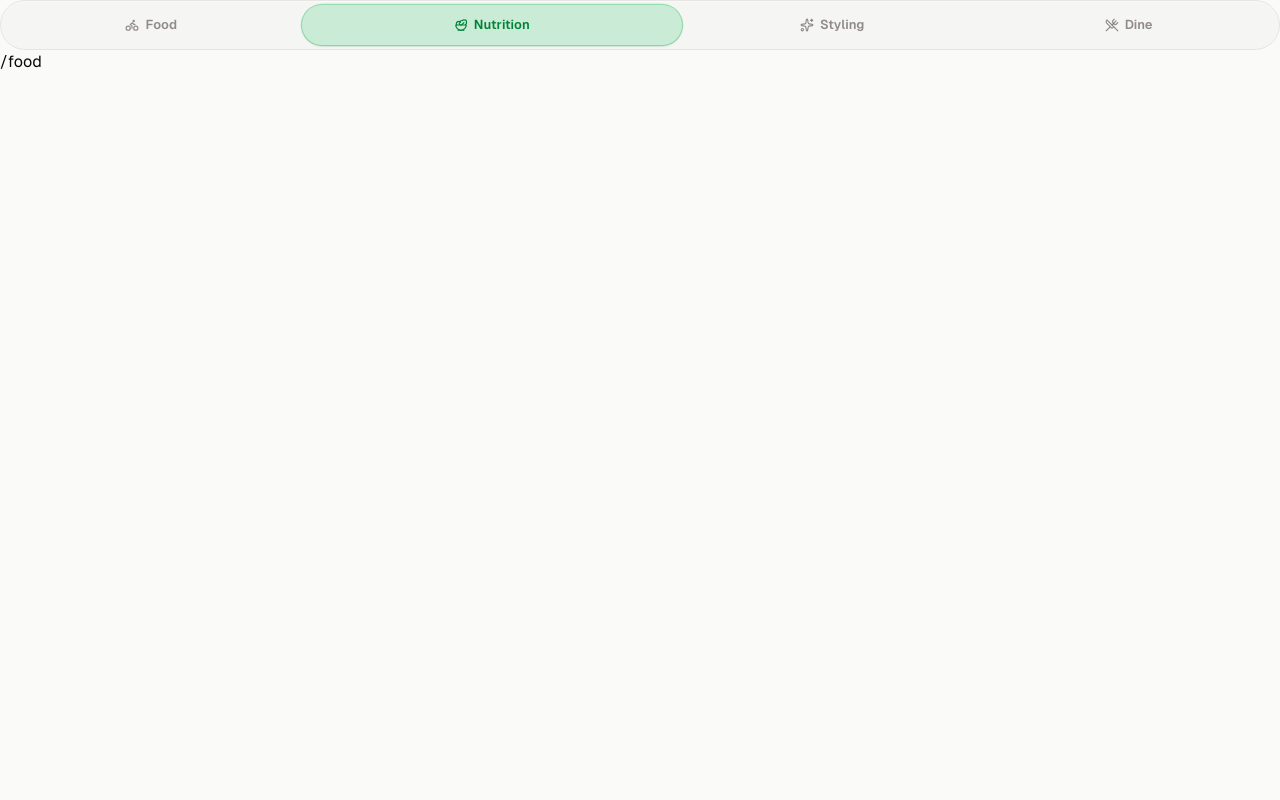
Test case: VerticalNav Nutrition/Style switch guard › clears source chat and switches tabs on confirmation
Click the link "Styling": (832, 25) 800,17 -> 864,32
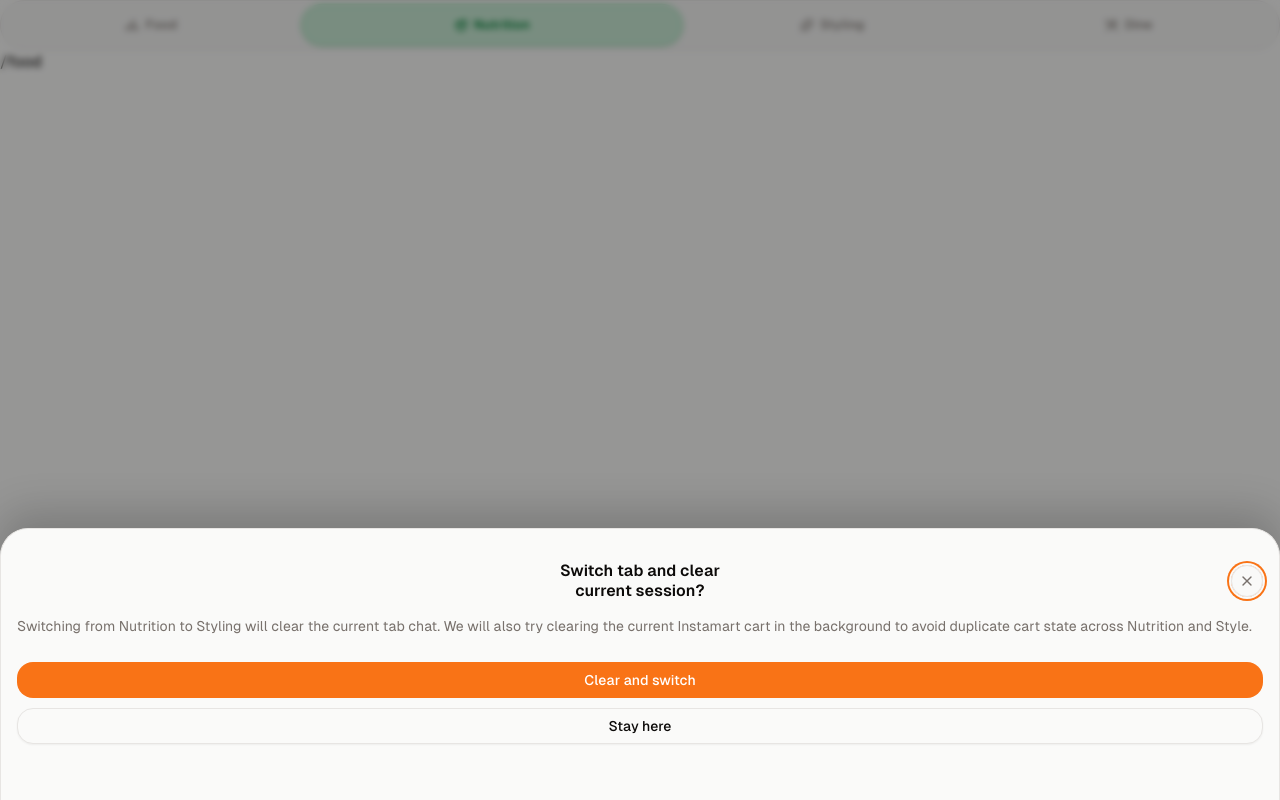
Click the button "Clear and switch": (640, 680) 17,662 -> 1263,698
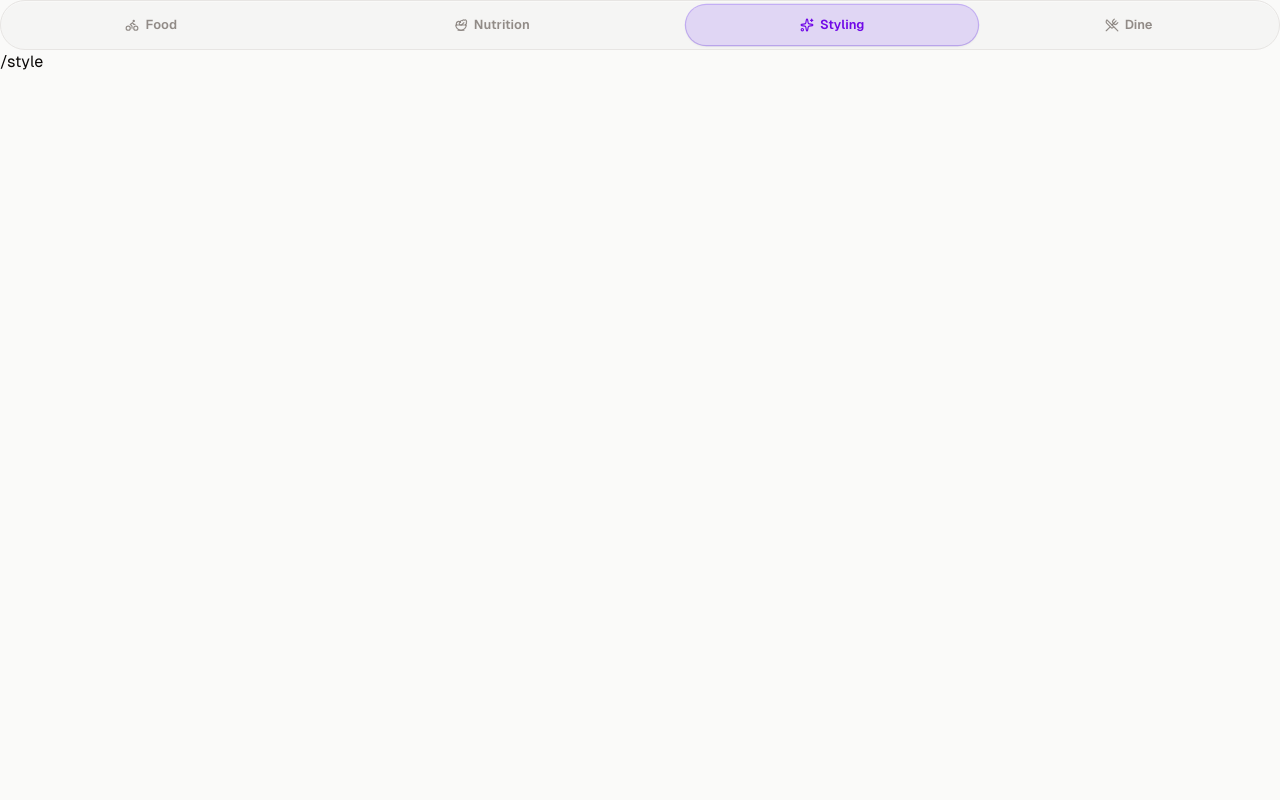
Expected: the text with test id "pathname" reads "/style", 0,52 -> 43,71
